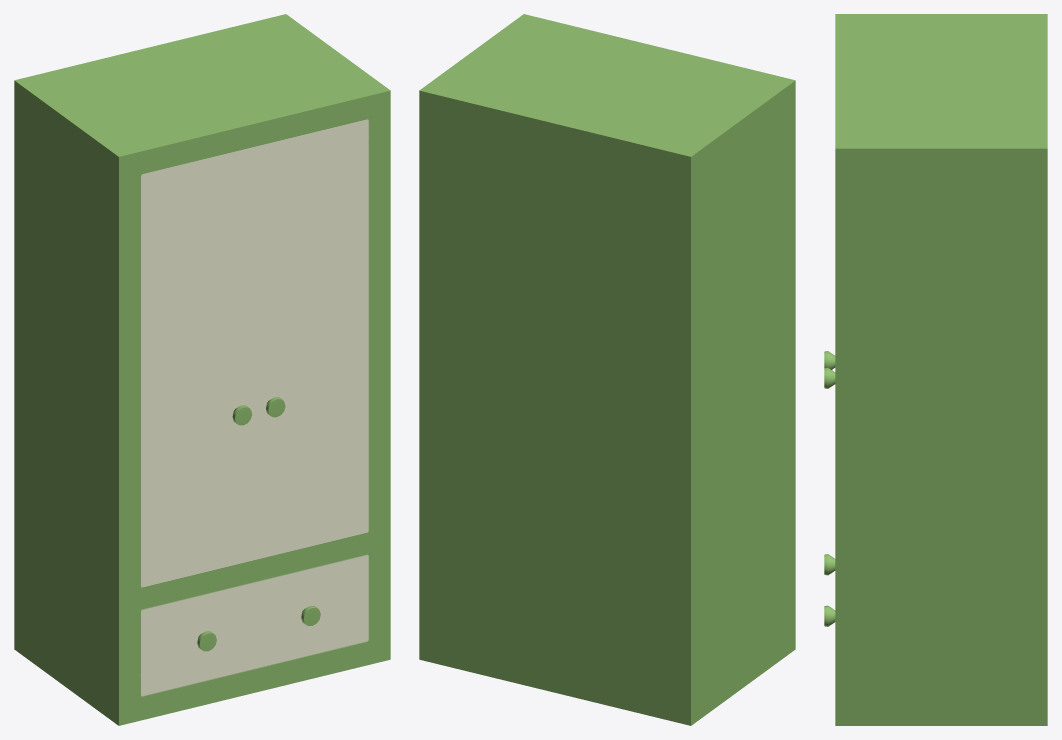
File: closet2_lightgreen.glb
3 renders of one model, left to right at view 1: azimuth 30°, elevation 25°; view 2: azimuth 150°, elevation 25°; view 3: azimuth 270°, elevation 25°, orthographic.
Visible parts, largest first — view 1: Box002; view 2: Box002; view 3: Box002.
Boxes of the visible parts, x1,y1,x2,y2 form: Box002: [14, 14, 390, 725]; Box002: [419, 14, 795, 725]; Box002: [824, 14, 1047, 725].
Size of the model in its own units: 0.12 by 0.24 by 0.0842.
Materials: 1 (1 with a texture image).
